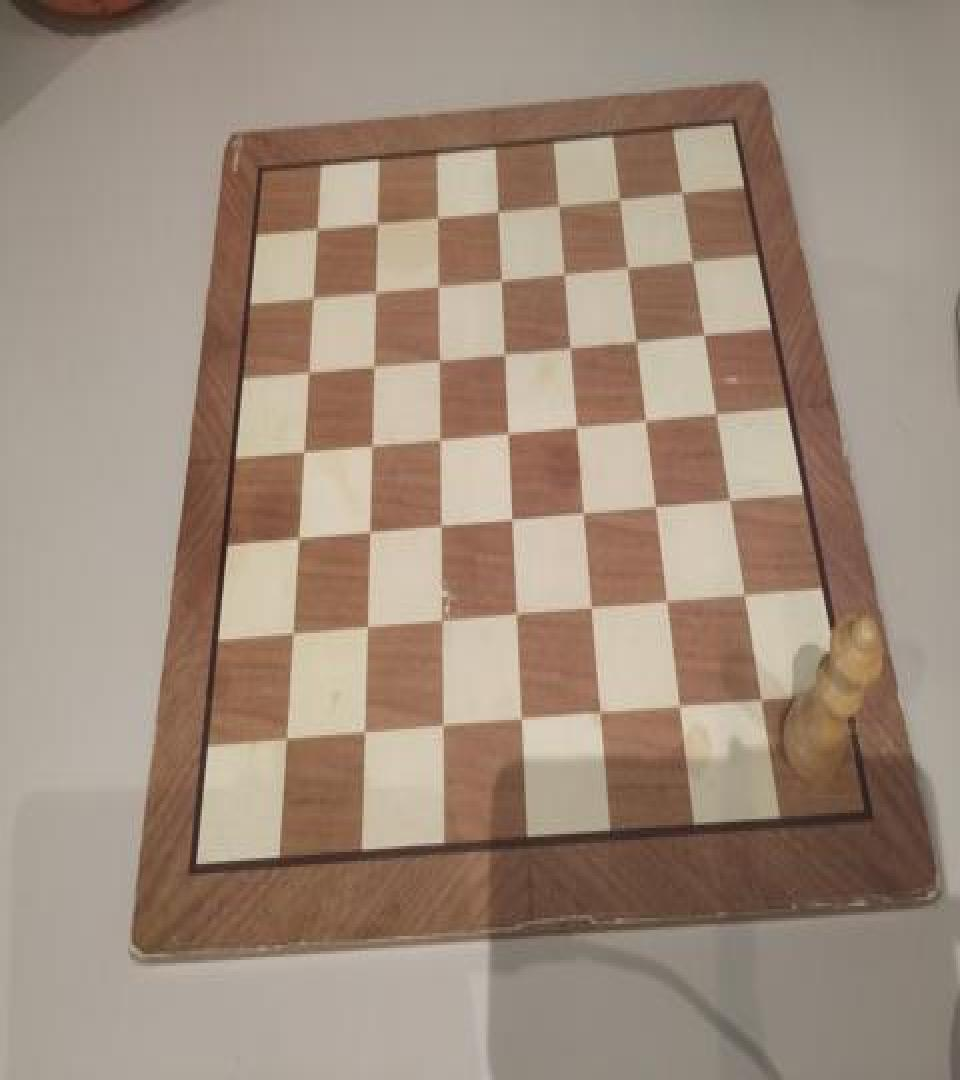xcorner: (613, 184, 633, 215), (307, 216, 327, 246), (303, 285, 323, 315), (299, 360, 319, 390), (294, 441, 314, 471), (283, 627, 303, 657), (277, 732, 297, 762), (368, 210, 388, 240), (366, 279, 386, 309), (364, 354, 384, 384), (362, 435, 382, 465), (360, 524, 380, 554), (358, 620, 378, 650), (355, 726, 375, 756), (429, 204, 449, 234), (430, 273, 450, 303), (430, 348, 450, 378), (431, 429, 451, 459), (432, 518, 452, 548), (433, 614, 453, 644), (434, 720, 454, 750), (490, 196, 510, 226), (493, 266, 513, 296), (496, 340, 516, 370), (500, 422, 520, 452), (504, 510, 524, 540), (513, 714, 533, 744), (552, 190, 572, 220), (557, 260, 577, 290), (563, 334, 583, 364), (569, 416, 589, 446), (576, 504, 596, 534), (584, 600, 604, 630), (593, 706, 613, 736), (621, 254, 641, 284), (630, 328, 650, 358), (639, 410, 659, 440), (649, 498, 669, 528), (661, 594, 681, 624), (673, 700, 693, 730), (675, 178, 695, 208), (686, 248, 706, 278), (697, 321, 717, 351), (709, 402, 729, 432), (723, 490, 743, 520), (737, 588, 757, 618), (753, 693, 773, 723), (289, 530, 309, 559), (508, 608, 528, 637)
